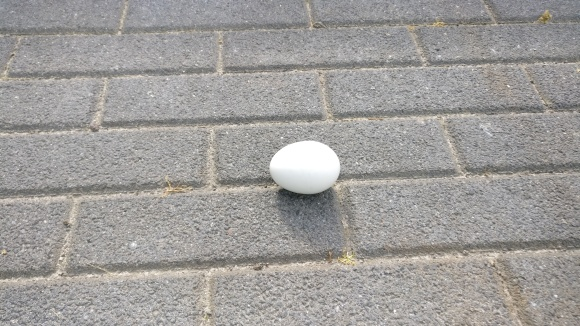egg: (268, 140, 341, 196)
